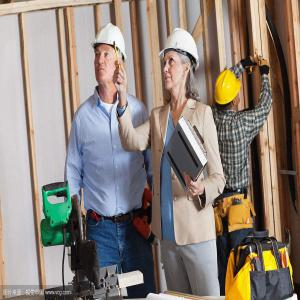white: (161, 29, 201, 97), (91, 21, 129, 88)
yellow: (216, 71, 243, 113)
